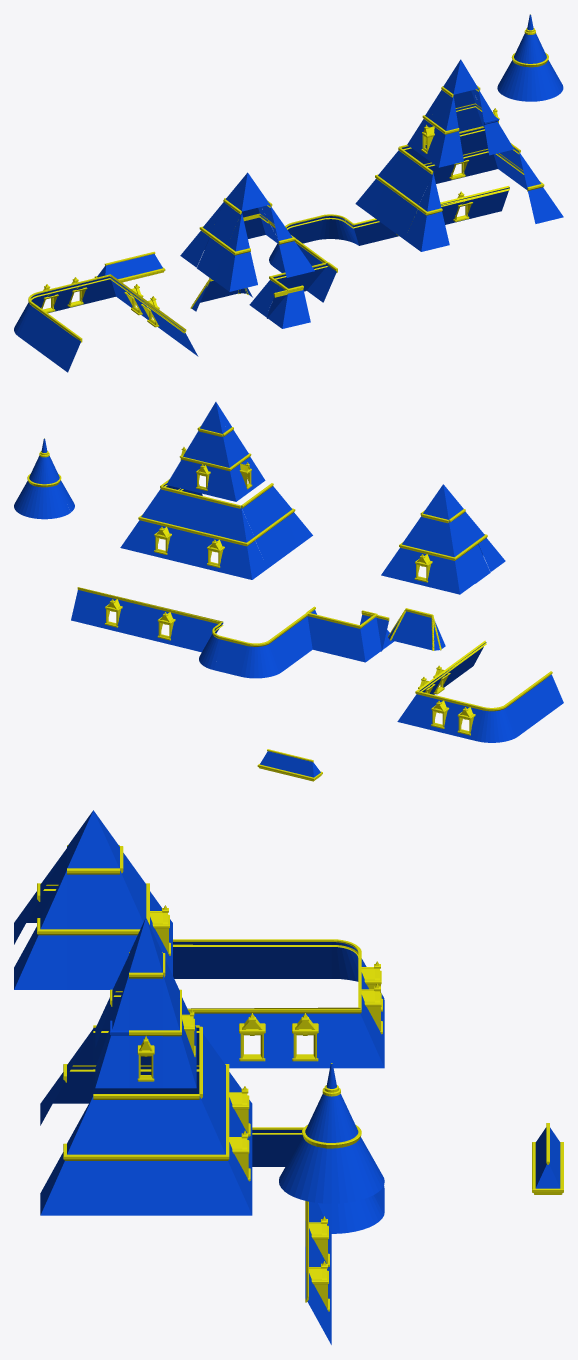
Rendered from Roof_01.fbx.
3 views of the same model, one above another, from view 1: azimuth 30°, elevation 25°; view 2: azimuth 150°, elevation 25°; view 3: azimuth 270°, elevation 25° (orthographic). The views are drawn at different scales.
Parts seen in each view (by area): view 1: Roof; view 2: Roof; view 3: Roof.
Boxes of the visible parts, box(x1,y1,x2,y2) form: Roof: box(14, 14, 563, 372); Roof: box(14, 402, 563, 781); Roof: box(14, 810, 563, 1344).
Size of the model in its own units: 56.8 by 25.99 by 31.15.
